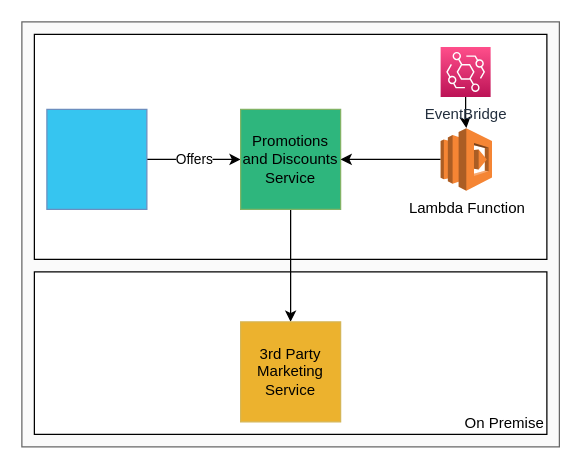
This 581x469 diagram has some shape labels left out. Here are the shapes that lost their labels. From the top down, the box of each, then its label:
(46, 108, 147, 209): Ordering Service
(33, 33, 547, 259): Cloud
